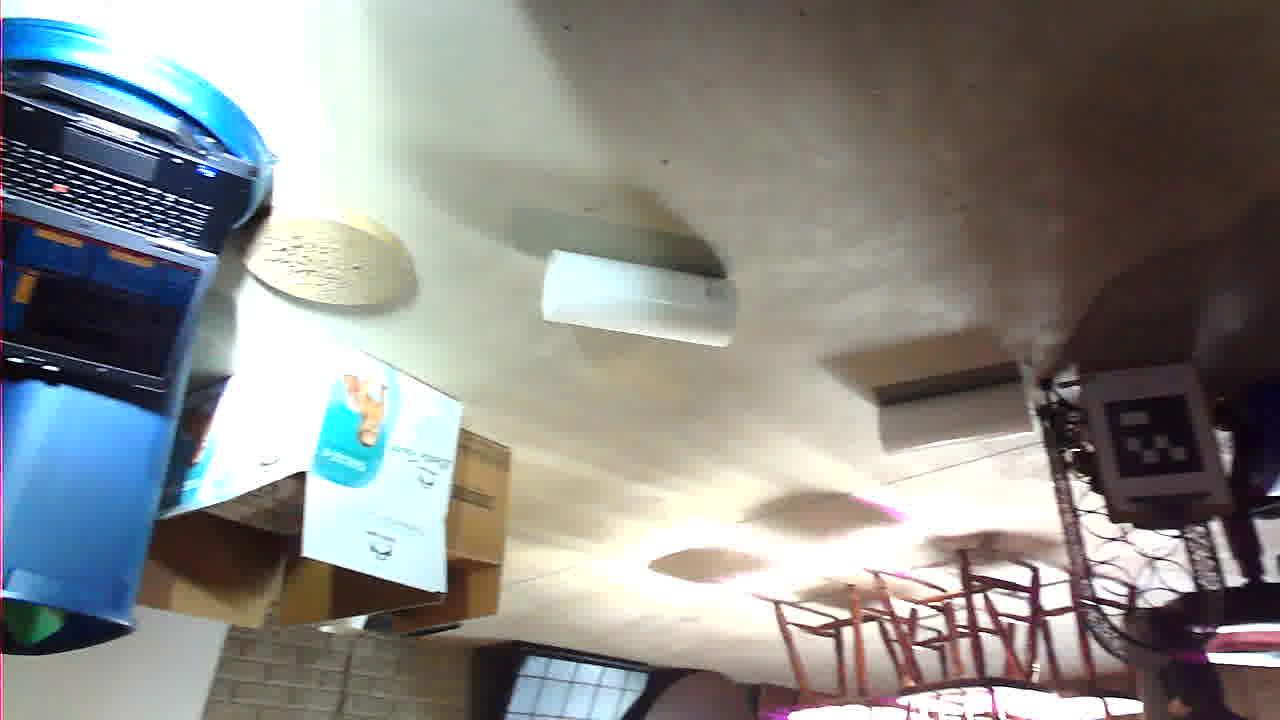coral: (548, 373, 736, 468), (250, 263, 402, 335)
